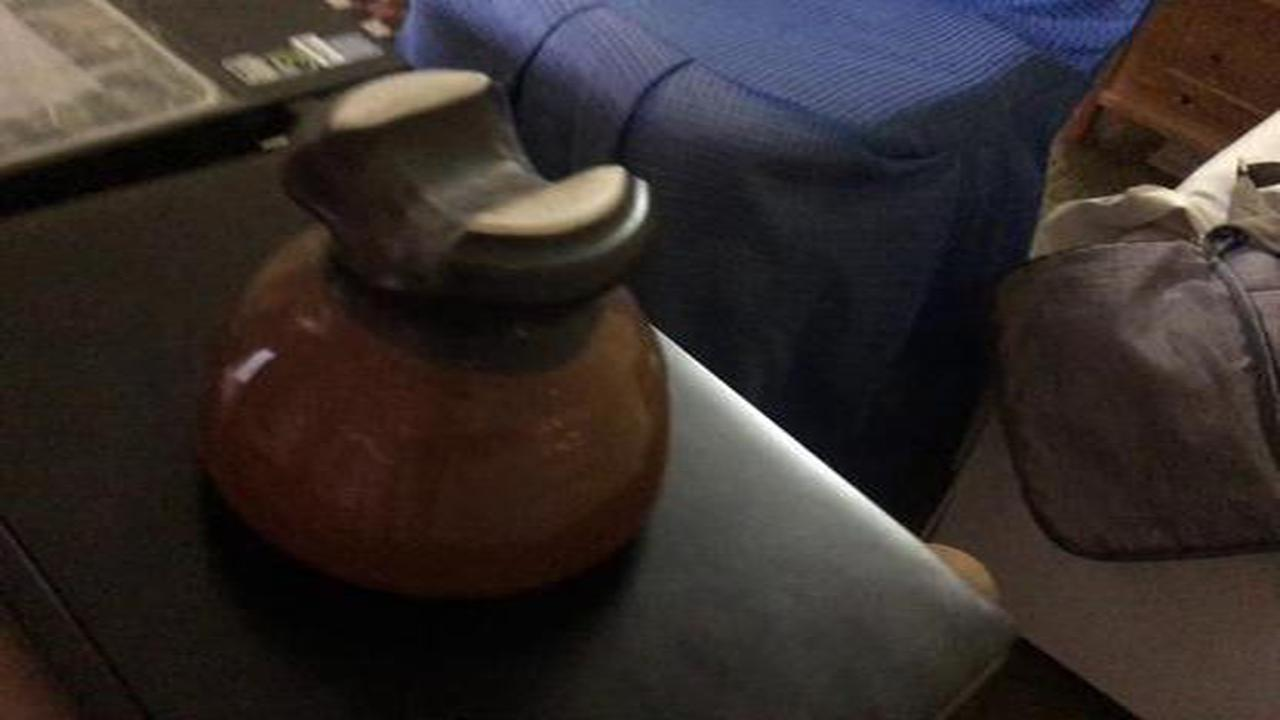insulator_pin: (191, 51, 681, 624)
